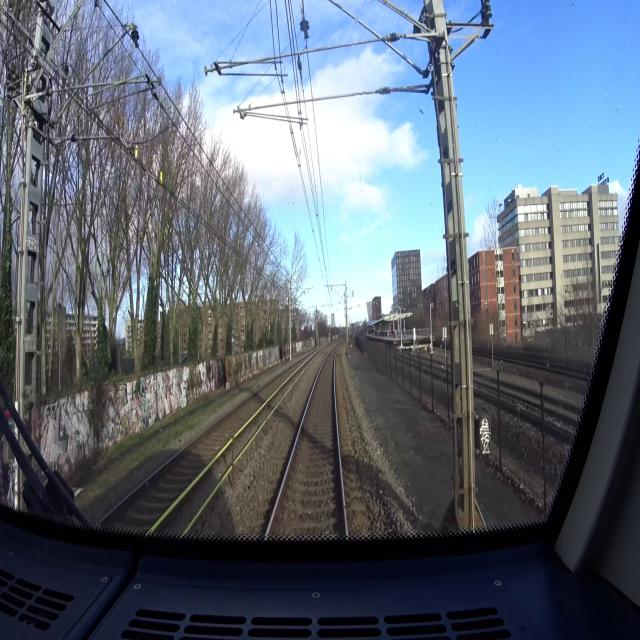rail-track: (106, 364, 297, 533), (268, 348, 344, 539)
